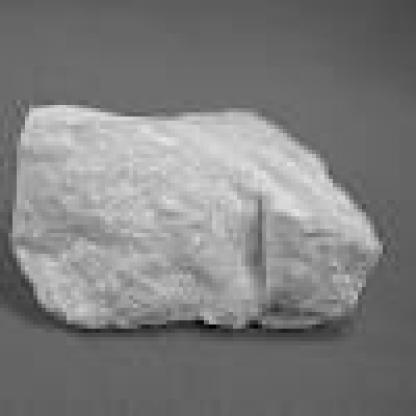Sedimentary_Chalk: (4, 91, 383, 337)
